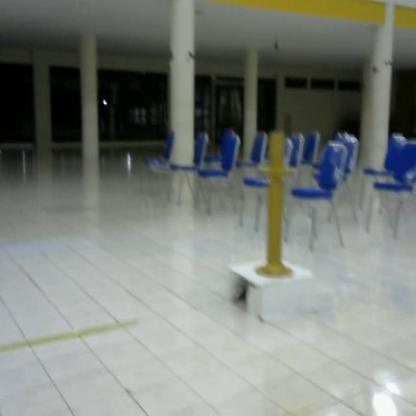pole: (249, 128, 310, 285)
